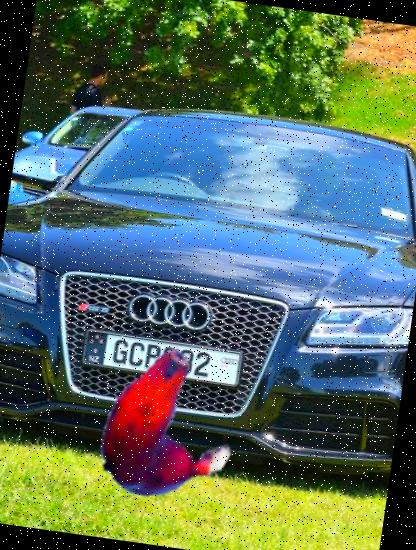Banana: (76, 344, 238, 506)
